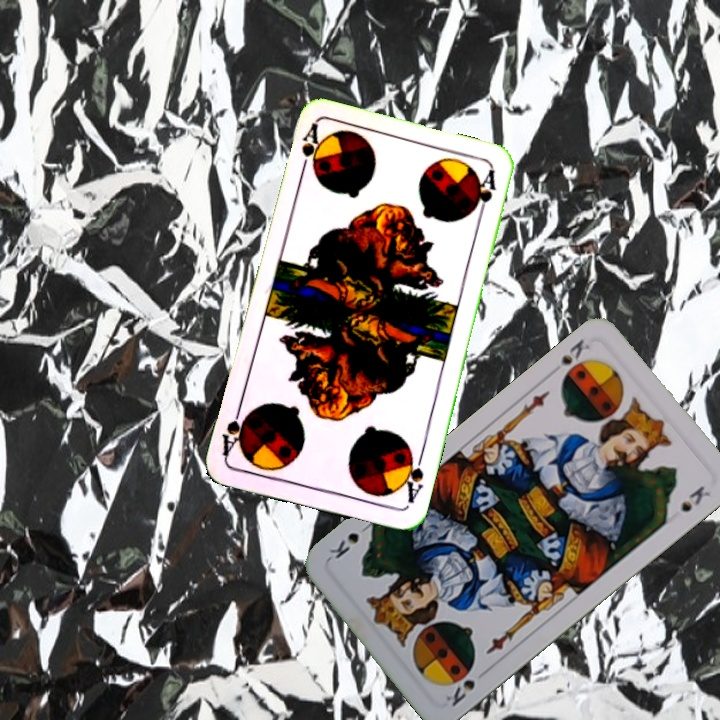SA: (396, 447, 426, 506), (296, 121, 324, 179)
SK: (441, 664, 478, 710), (556, 335, 593, 368)
